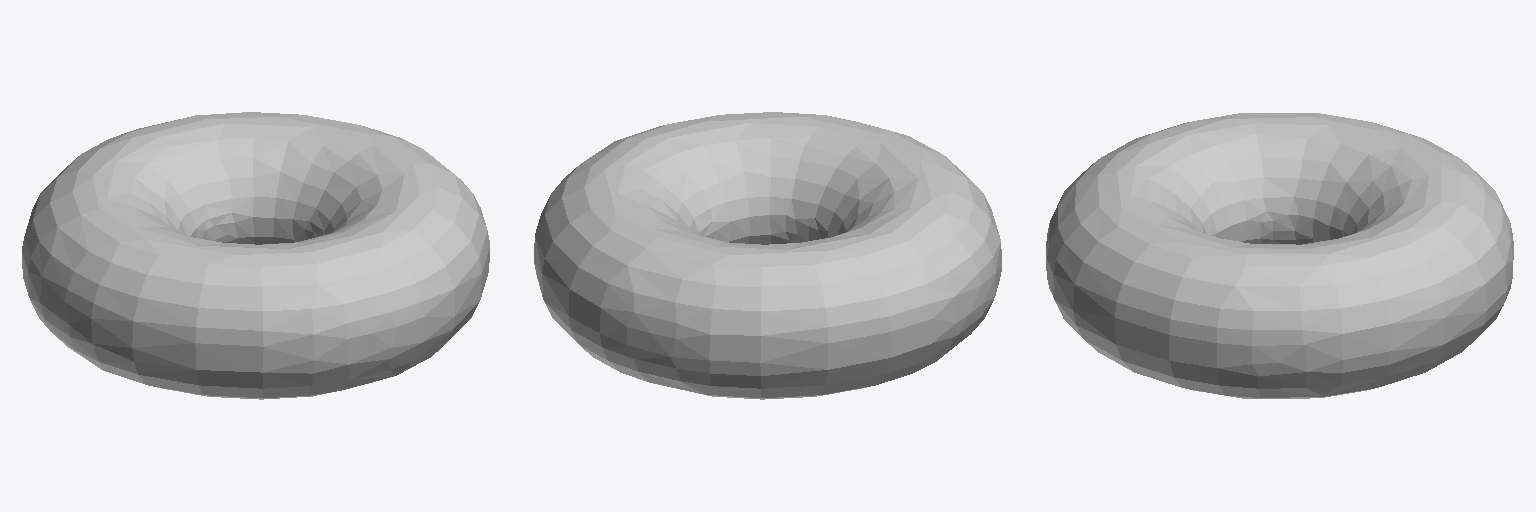
Rendered from donut_model.1.obj.
3 renders of one model, left to right at view 1: azimuth 30°, elevation 25°; view 2: azimuth 150°, elevation 25°; view 3: azimuth 270°, elevation 25°, orthographic.
Visible parts, largest first — view 1: donut_model_Mesh; view 2: donut_model_Mesh; view 3: donut_model_Mesh.
Part boxes in pixels (x1,y1,x2,y2): donut_model_Mesh: (22, 112, 489, 399); donut_model_Mesh: (534, 112, 1001, 399); donut_model_Mesh: (1046, 113, 1513, 398).
Bounding box in the file's own units: 2 × 0.6608 × 2.